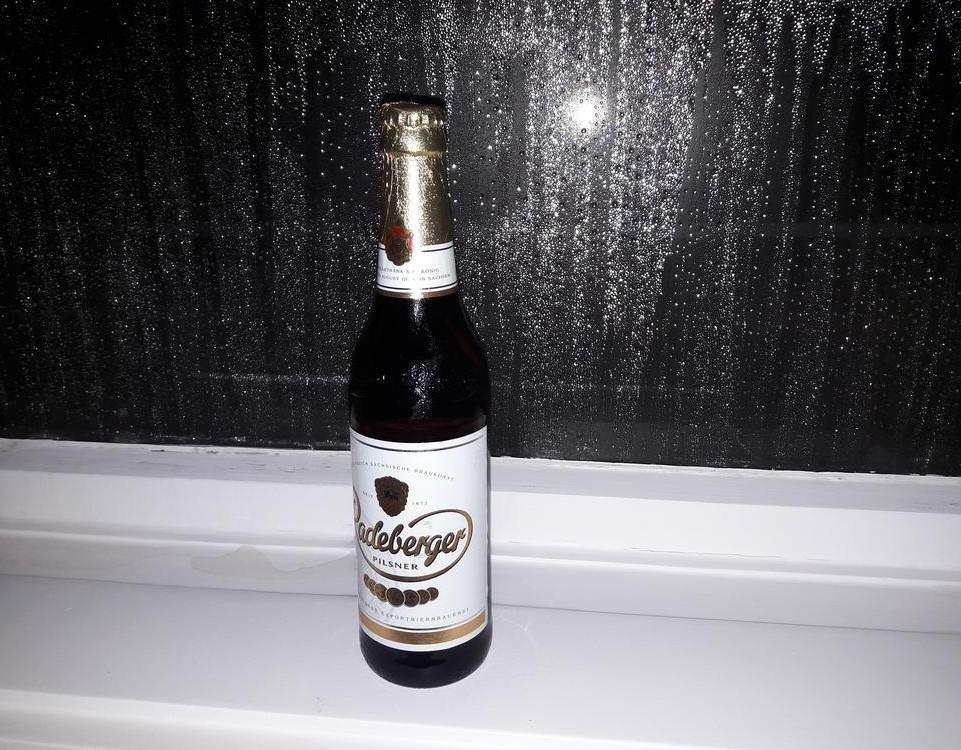bottle-glass: (346, 96, 495, 689)
